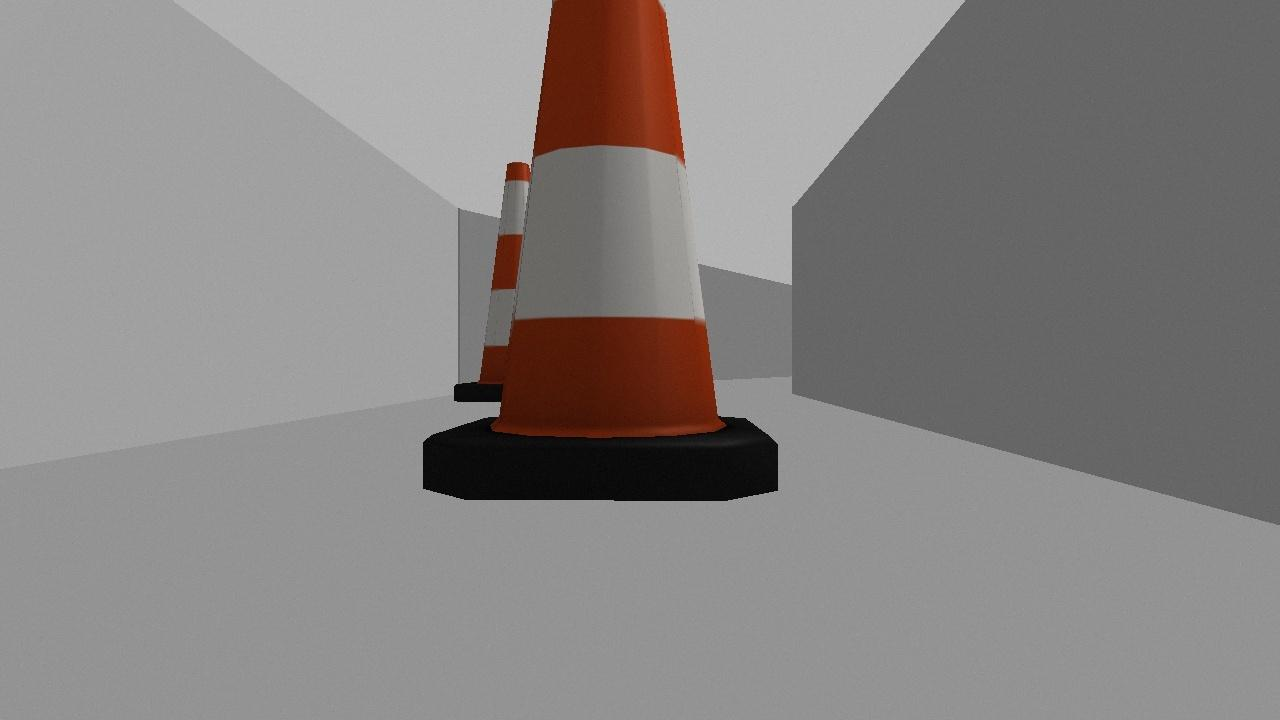cone_barrel: (392, 0, 806, 525), (437, 152, 592, 405)
